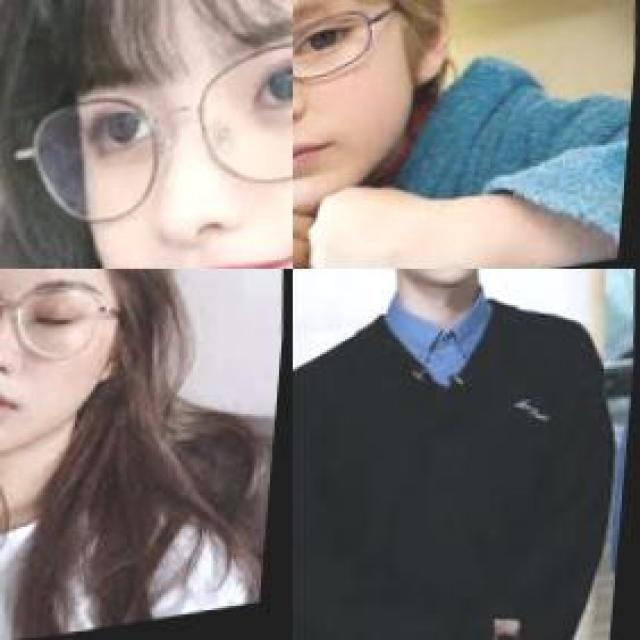Glasses: (9, 21, 291, 241), (293, 2, 411, 141), (0, 269, 136, 382)
